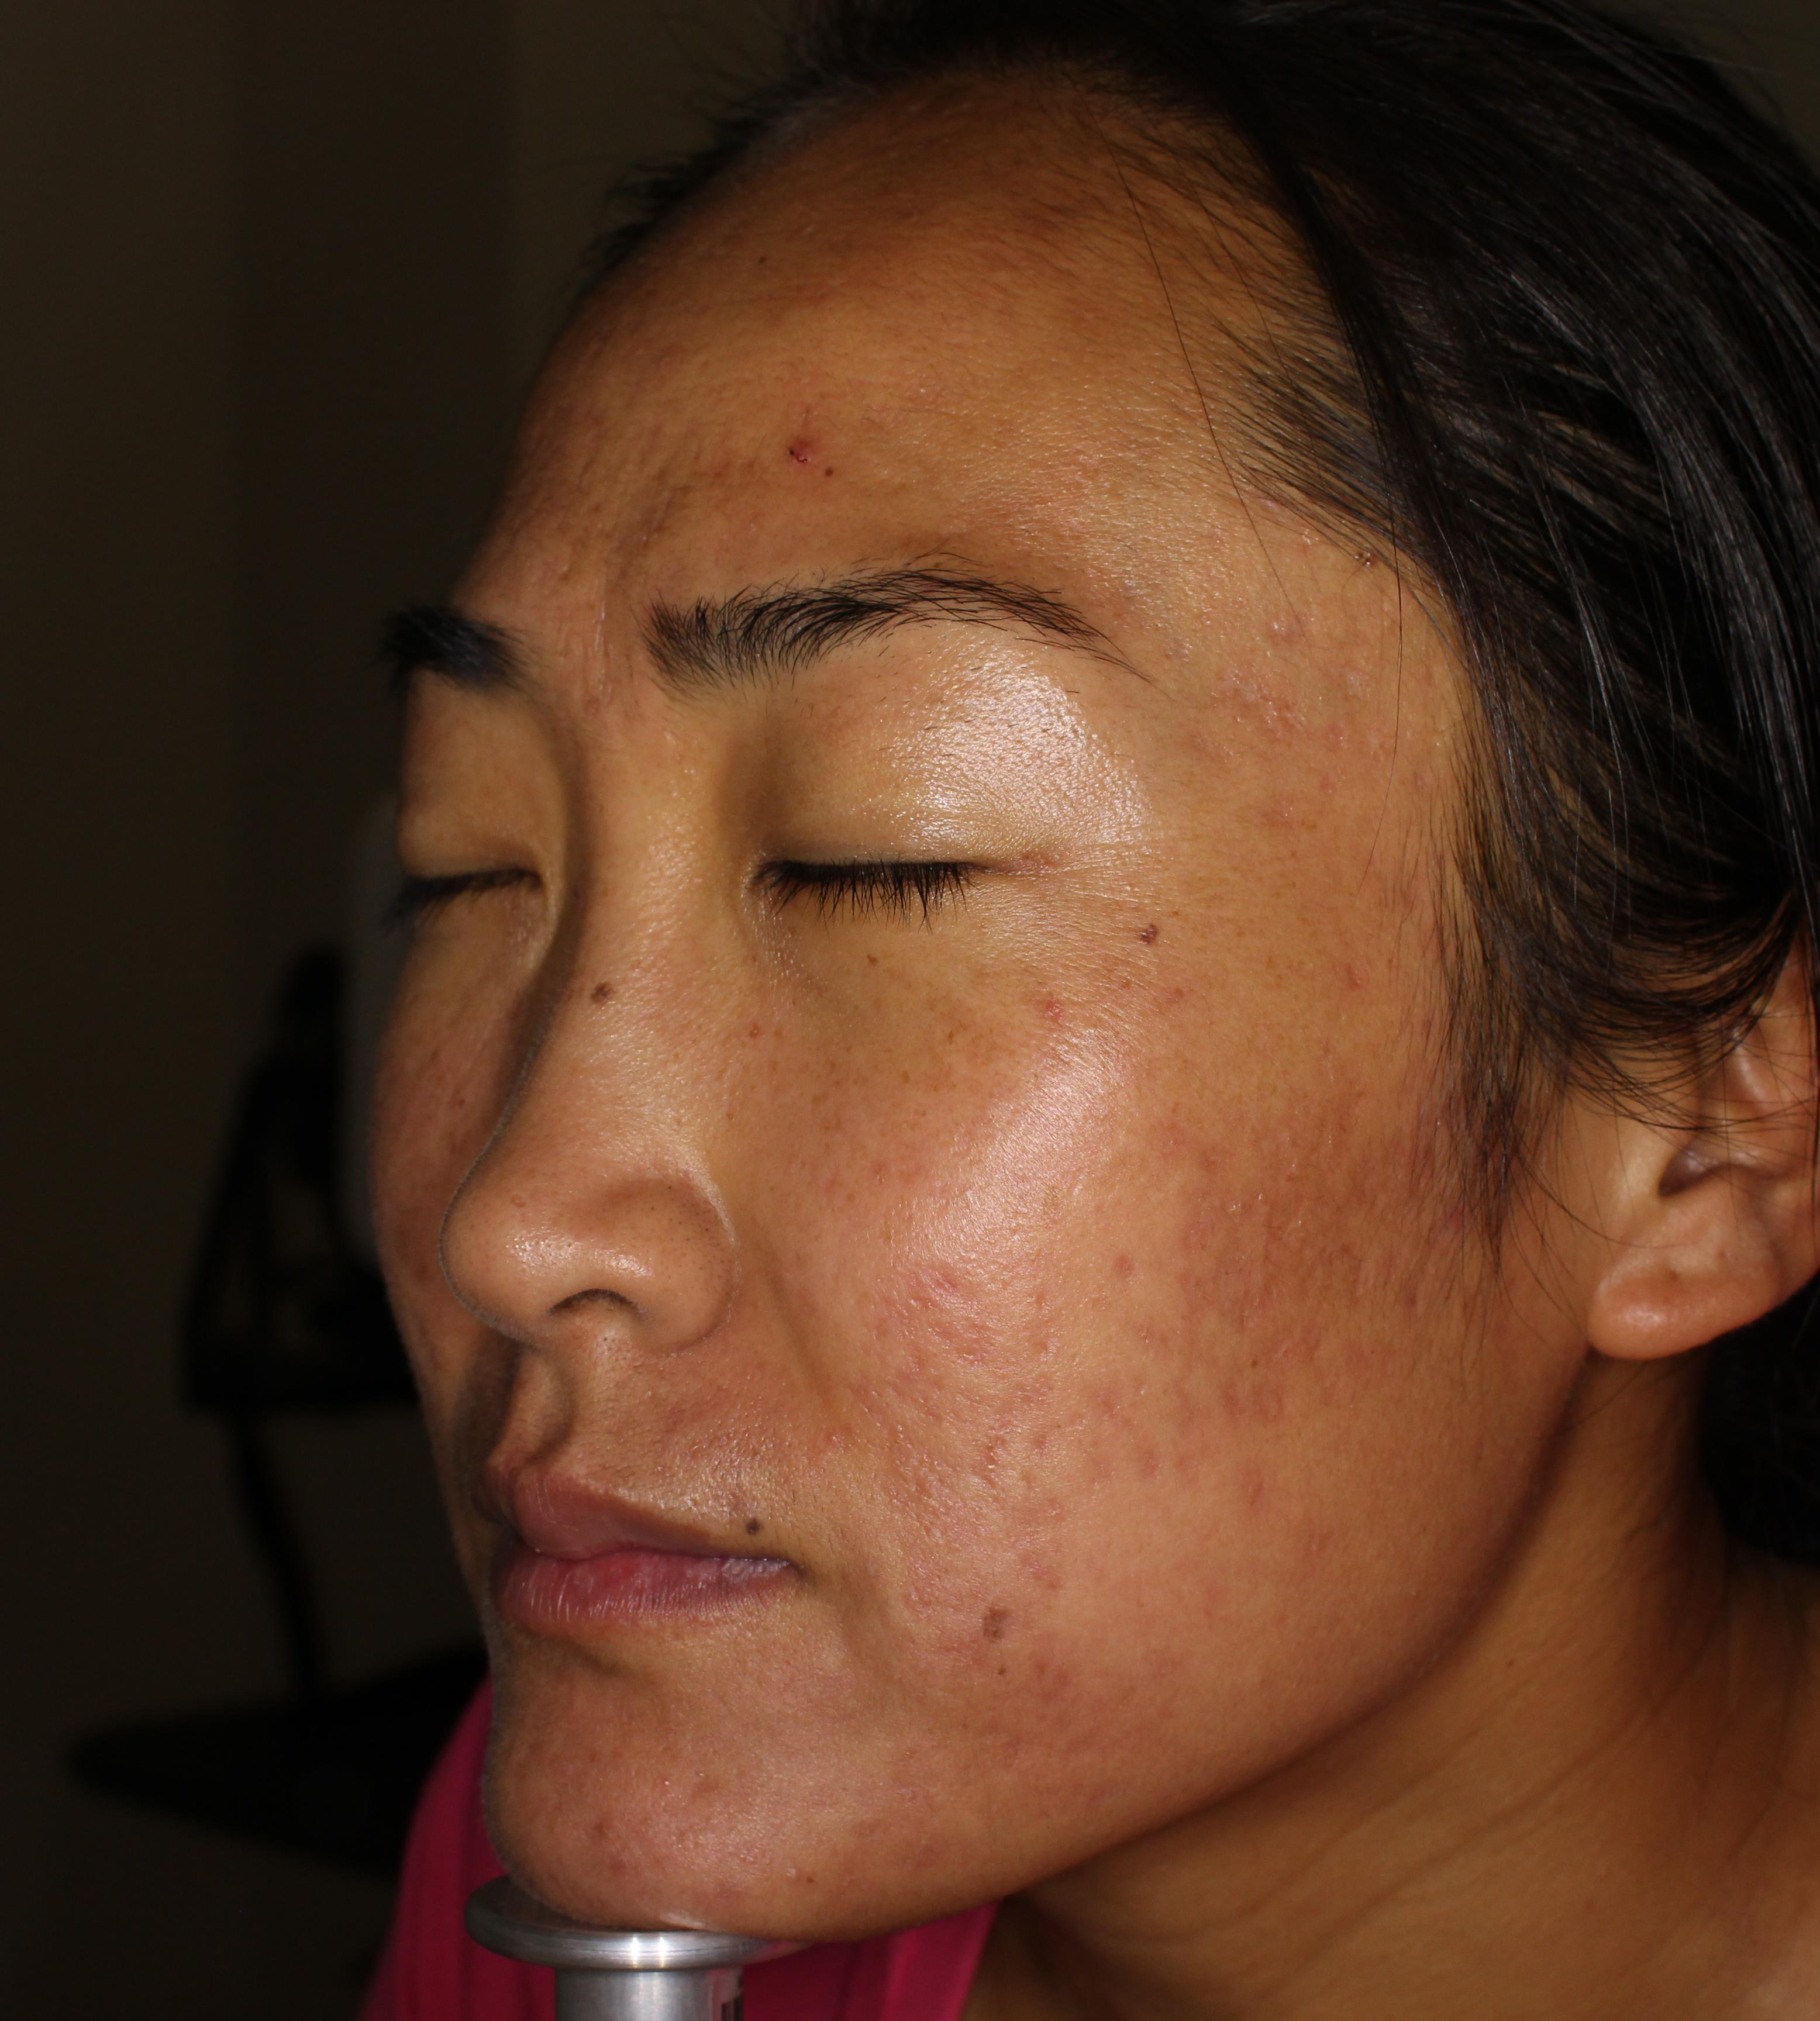fore: (592, 1782, 652, 1898), (759, 397, 834, 486), (991, 1658, 1077, 1728), (1404, 1110, 1481, 1182), (892, 1254, 961, 1320), (1158, 1136, 1228, 1199), (1219, 1370, 1279, 1442), (901, 1384, 970, 1442), (1233, 1464, 1291, 1531), (1135, 1406, 1184, 1473), (1395, 1280, 1441, 1338)
